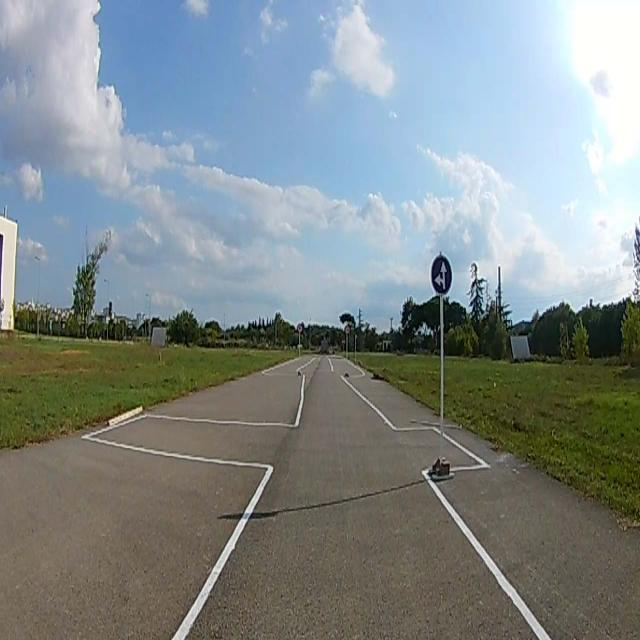ilerisol: (431, 254, 452, 294)
